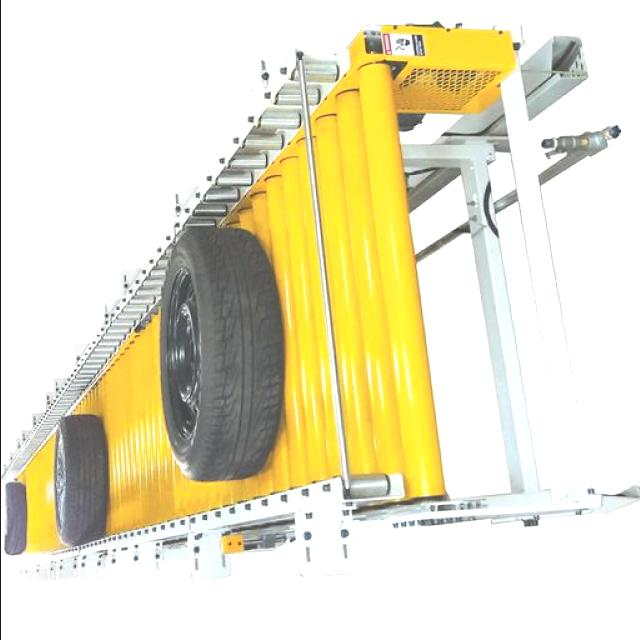conveyor: (0, 51, 435, 559)
